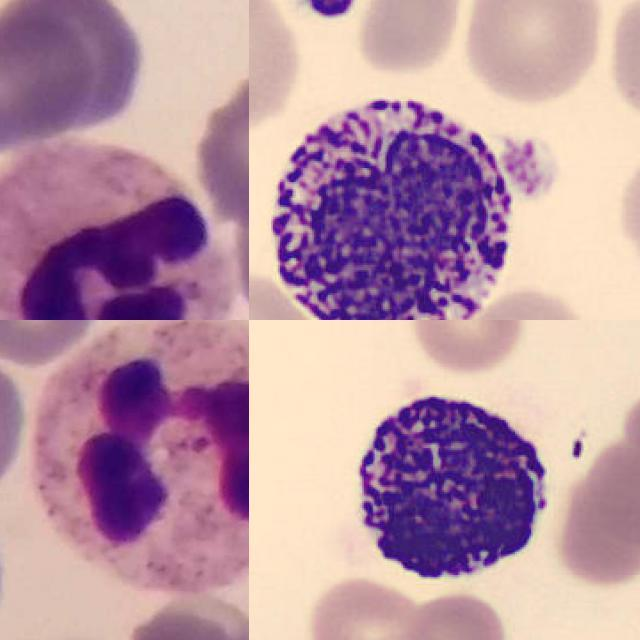Basophil: (272, 69, 519, 320), (327, 374, 563, 594)
Neutrophil: (30, 320, 249, 587), (0, 135, 232, 320)
Platelets: (494, 131, 562, 199), (299, 0, 361, 23)
RBC: (459, 0, 608, 106), (550, 425, 640, 590), (353, 0, 465, 78), (299, 573, 422, 640), (249, 0, 304, 130), (404, 320, 529, 377), (445, 282, 601, 320), (599, 0, 640, 134), (404, 589, 509, 640), (608, 125, 640, 286), (616, 379, 640, 483)
